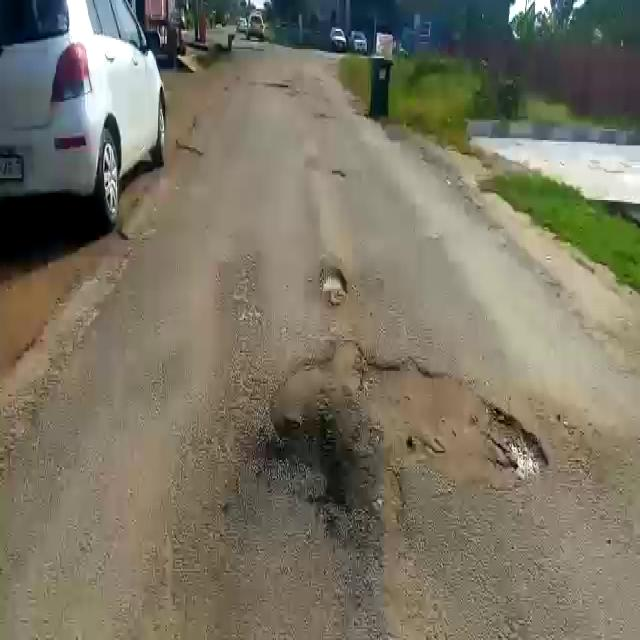Pothole: (267, 342, 551, 496), (313, 266, 348, 308)
